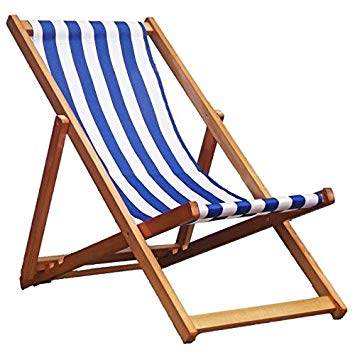chairs: (7, 9, 347, 344)
